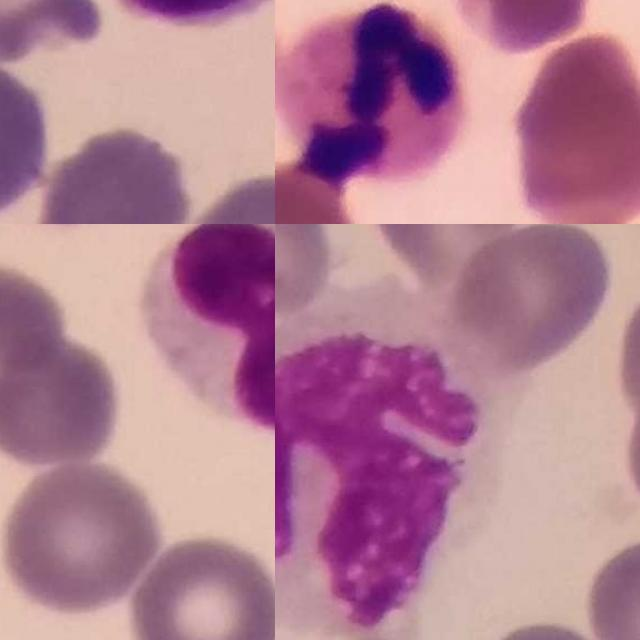Lymphocyte: (142, 224, 275, 431)
Monocyte: (275, 289, 510, 637)
Neutrophil: (275, 0, 461, 194)
